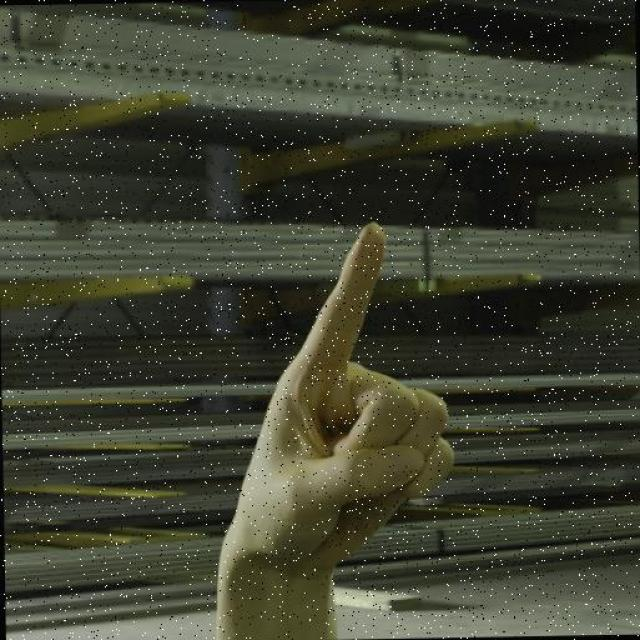Z: (208, 214, 461, 577)
